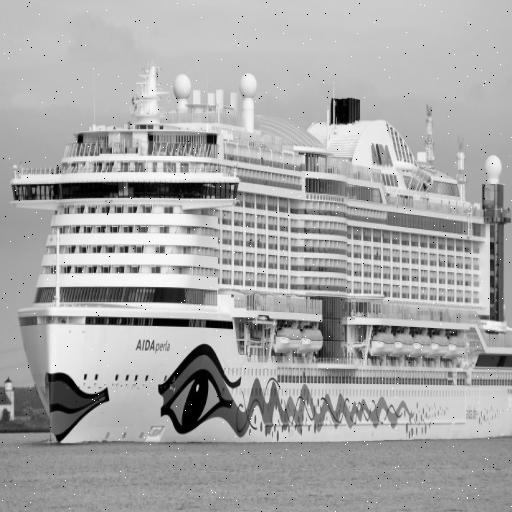cruises: (8, 58, 512, 454)
